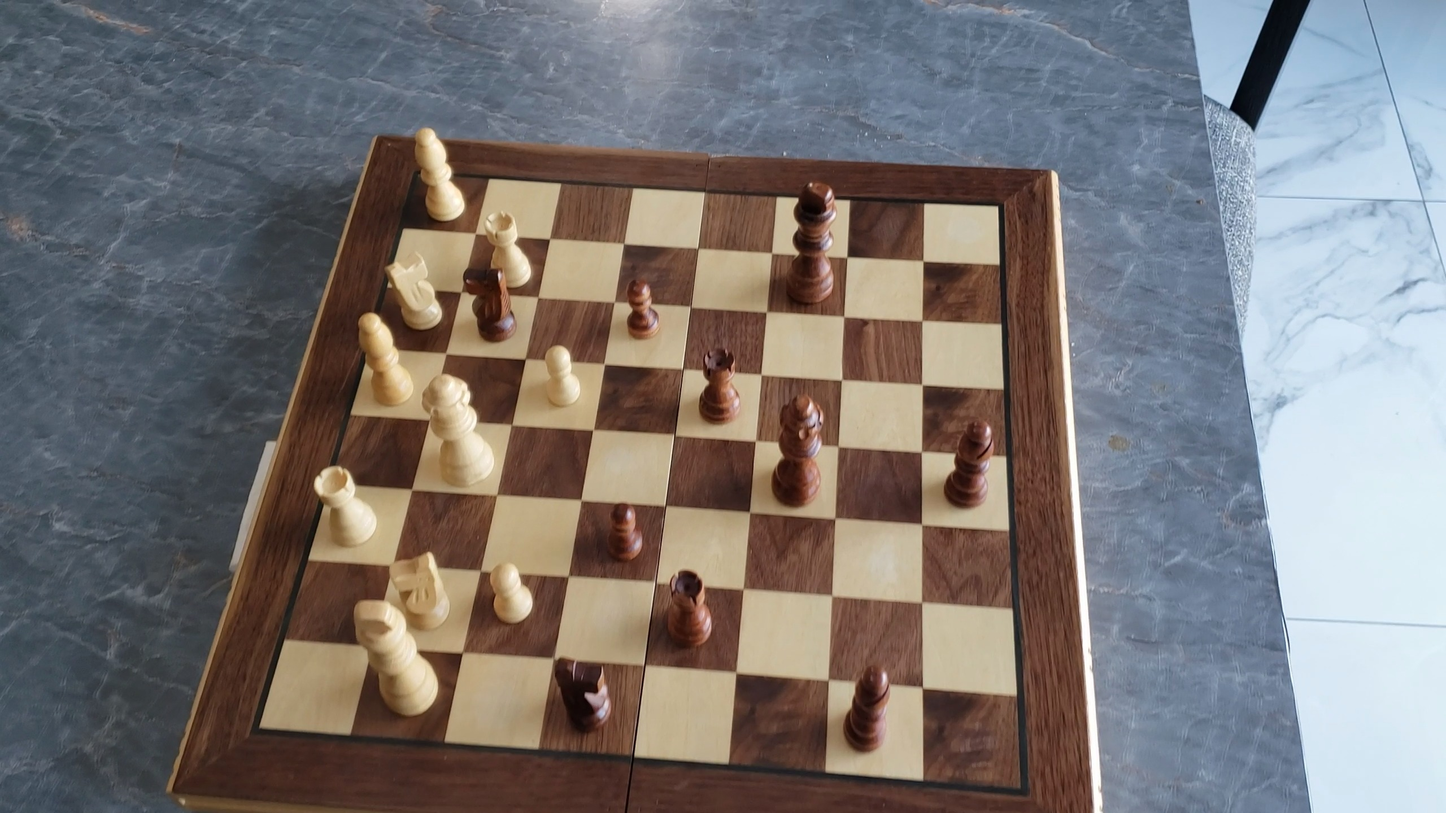black-bishop: (942, 416, 998, 510), (840, 661, 895, 756)
black-king: (778, 176, 846, 315)
black-knight: (551, 654, 615, 736), (462, 262, 520, 343)
black-pawn: (603, 498, 647, 565), (623, 274, 662, 342)
black-queen: (762, 387, 833, 517)
black-rook: (661, 567, 715, 650), (696, 344, 743, 425)
white-bishop: (409, 121, 469, 226), (354, 311, 417, 410)
white-king: (349, 596, 444, 721)
white-knight: (381, 548, 458, 635), (380, 245, 450, 331)
white-pawn: (485, 558, 539, 629), (538, 341, 587, 412)
white-queen: (414, 368, 497, 486)
white-rook: (310, 462, 382, 550), (481, 208, 537, 292)
